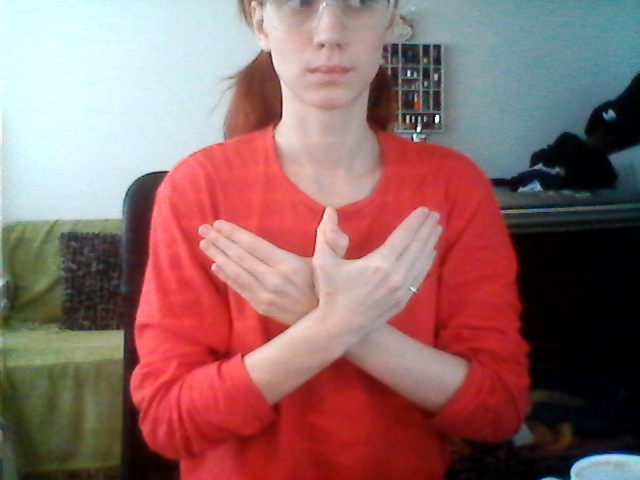lekar: (196, 198, 472, 393)
